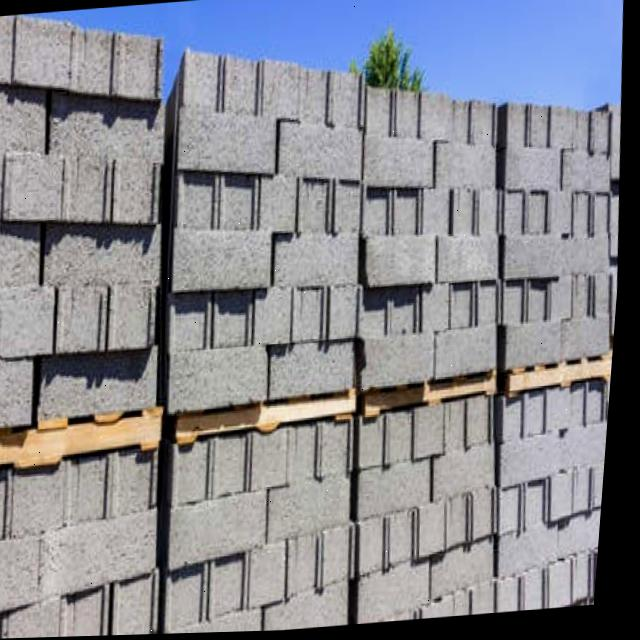bricks: (0, 18, 621, 639)
